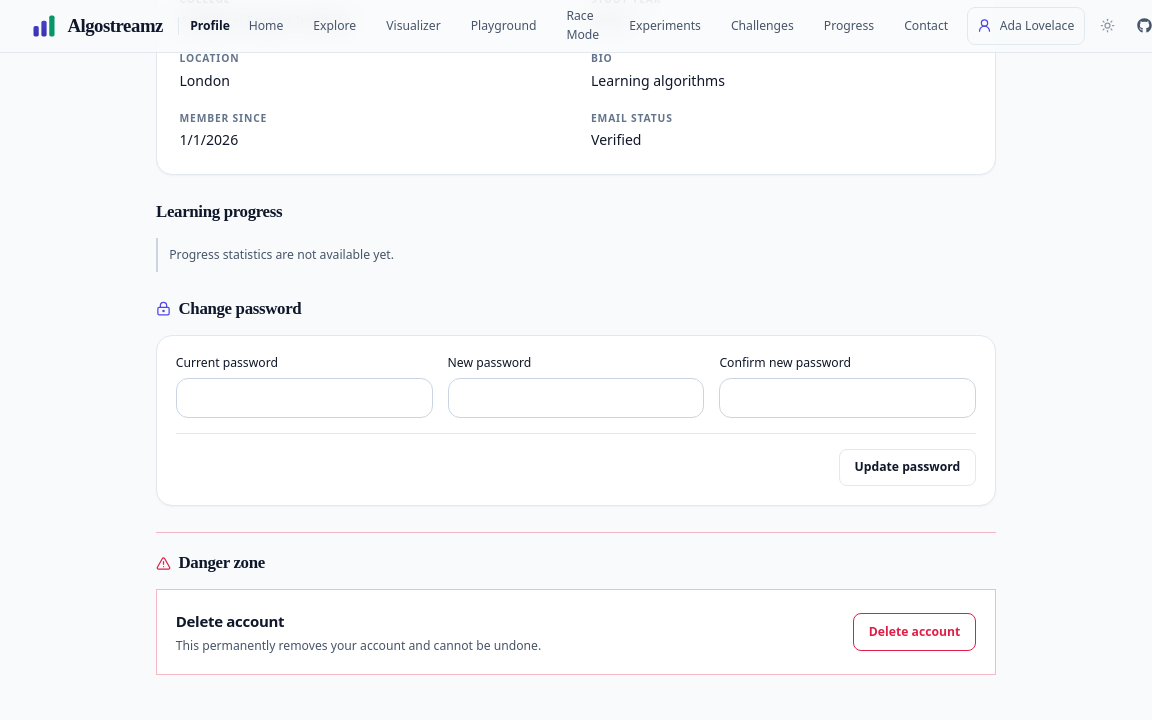
Test: ProfilePage › traps keyboard focus in the delete dialog and closes it with Escape
(page scrolled)
Expected: the link with aria-label "Open profile for Ada Lovelace" is shown, top-left (967, 7), bottom-right (1085, 44)
Click the button "Delete account" at (914, 632), box top-left (853, 613), bottom-right (976, 651)
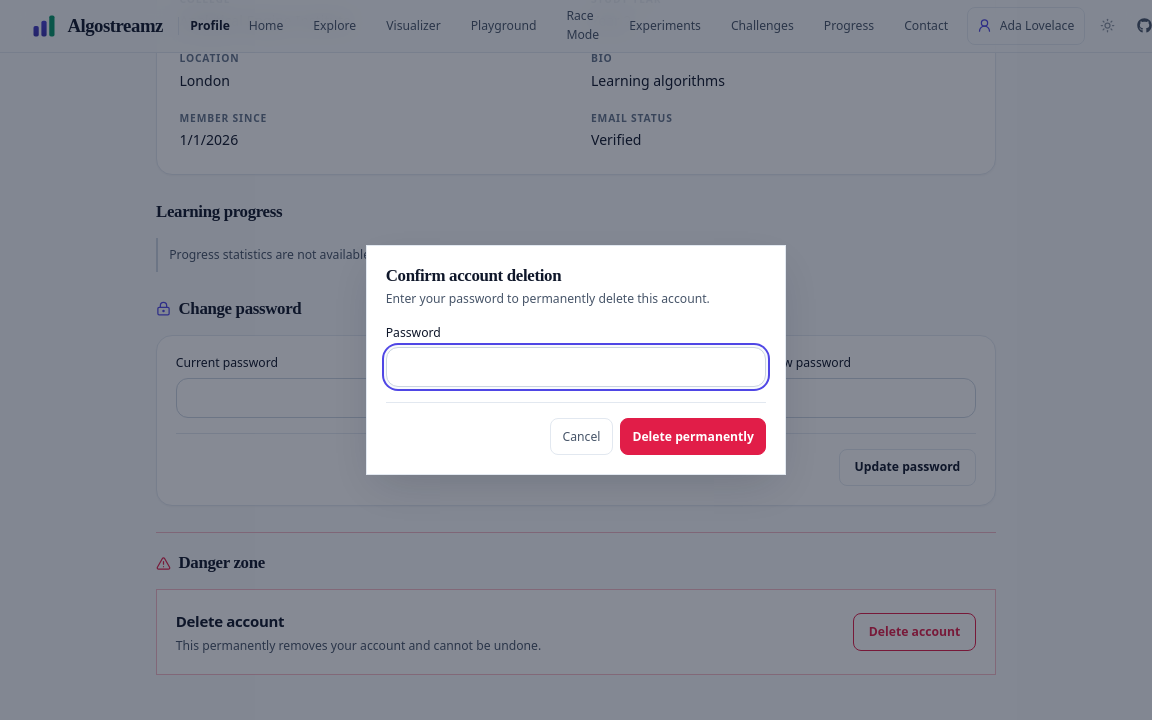
Press Tab in the password field labelled "Password", box top-left (386, 347), bottom-right (766, 387)
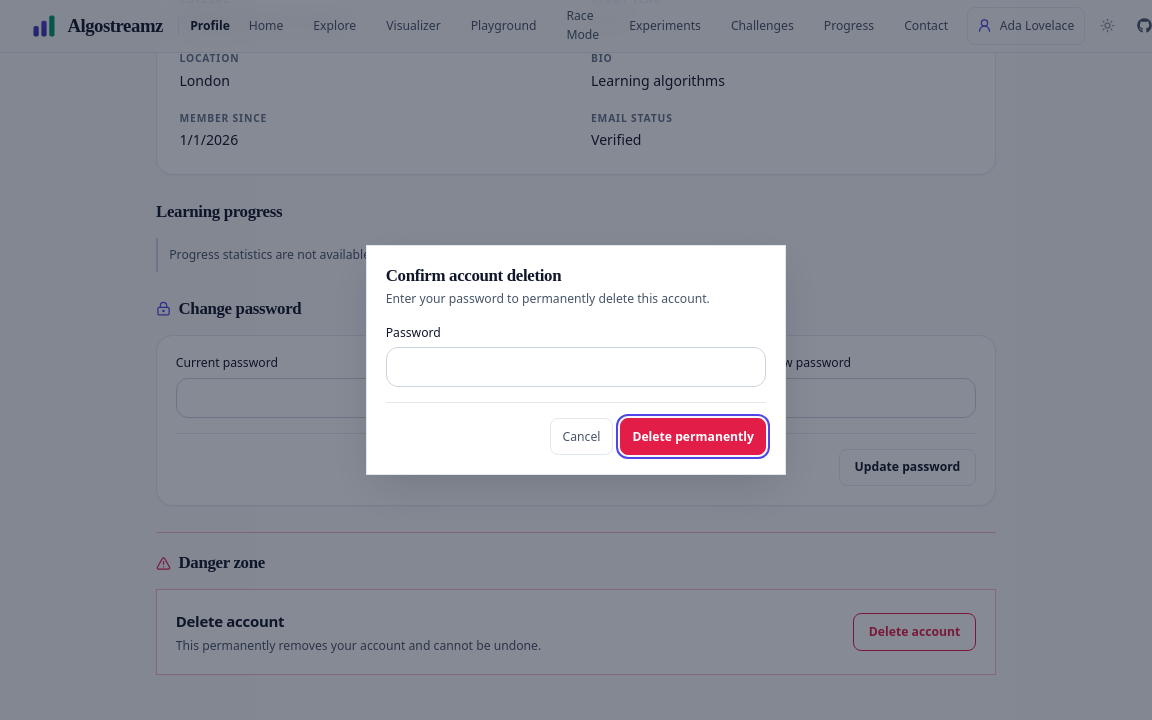
Press Escape in the button "Delete permanently", box top-left (620, 418), bottom-right (766, 455)
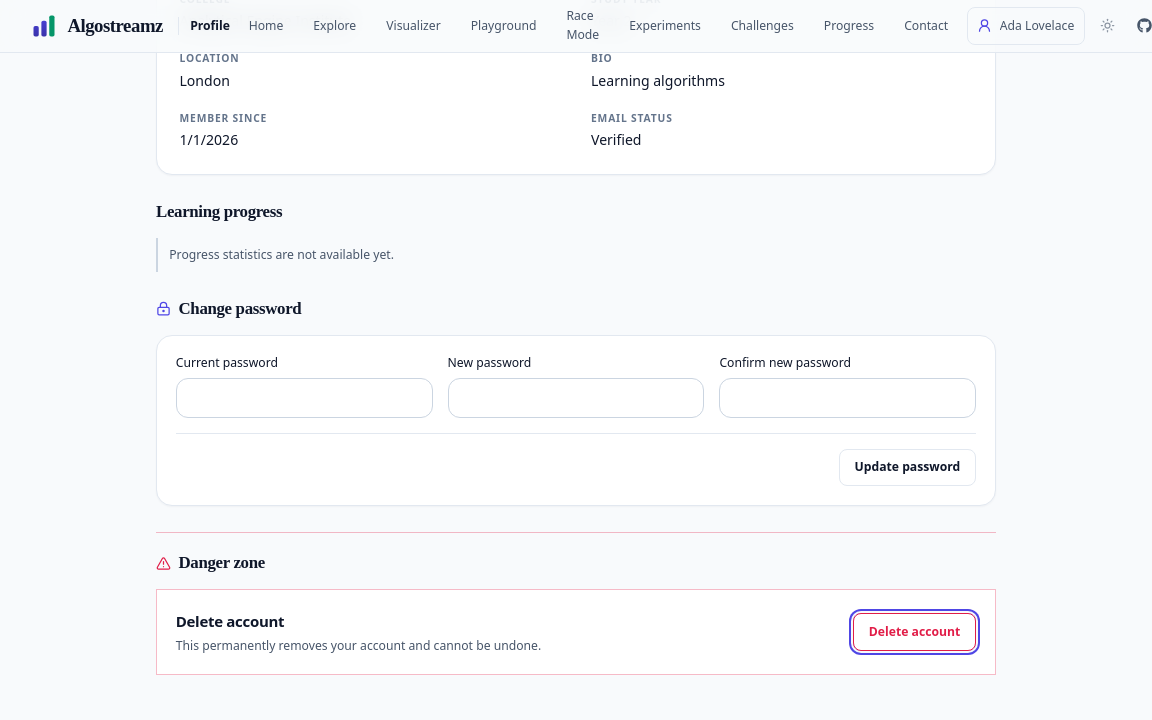
Now the dialog is gone
